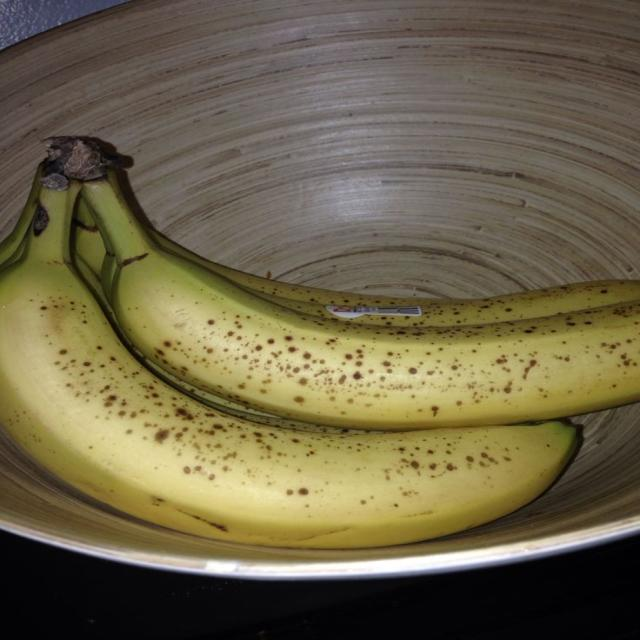unpeal banana: (0, 180, 576, 548), (83, 174, 639, 429), (147, 227, 639, 327), (72, 255, 344, 432)
